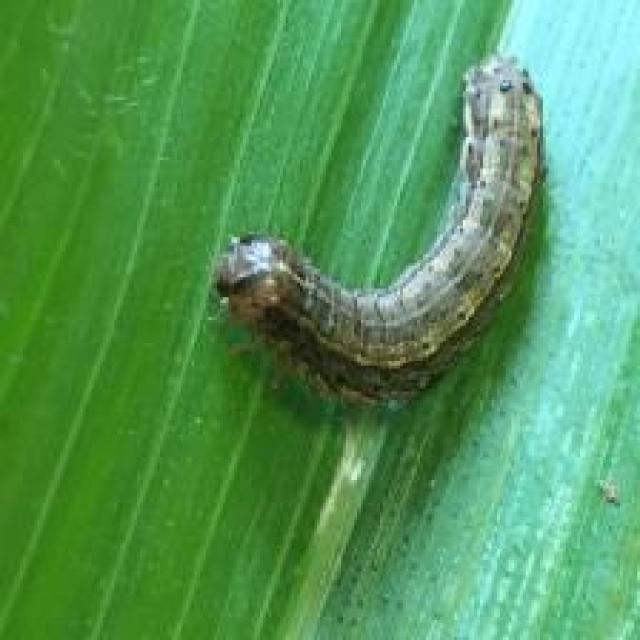Plaga: (207, 24, 572, 441)
